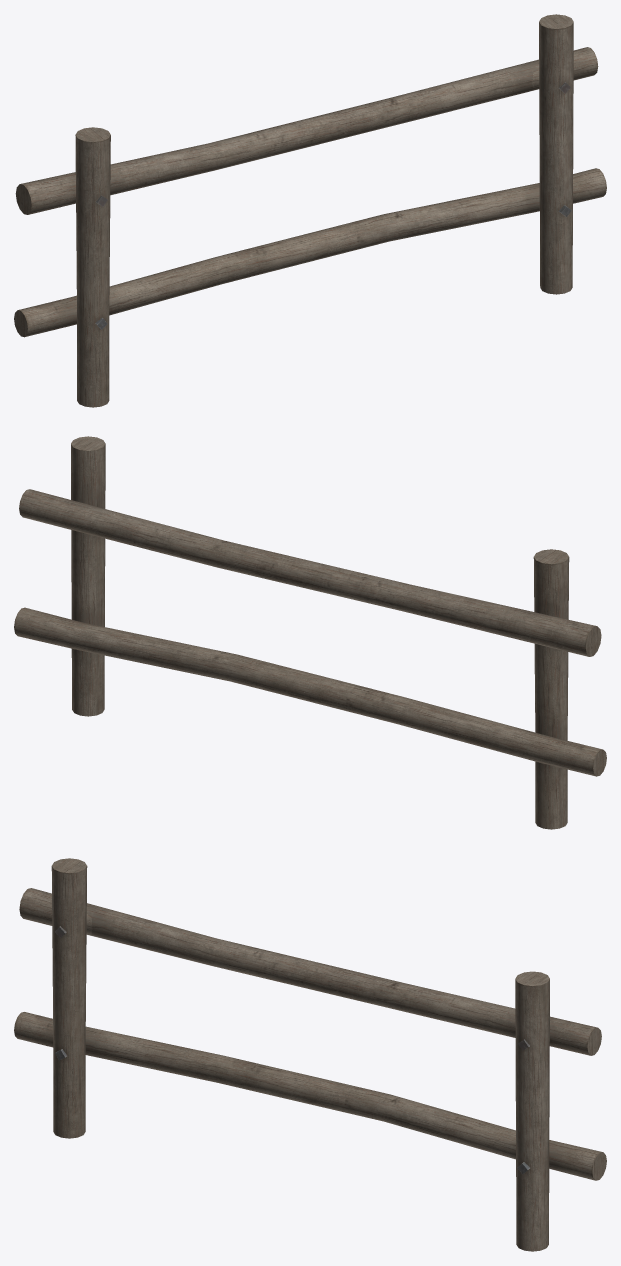
File: fence2.fbx
3 renders of one model, top to bottom at view 1: azimuth 30°, elevation 25°; view 2: azimuth 150°, elevation 25°; view 3: azimuth 330°, elevation 25°, orthographic.
Parts seen in each view (by area): view 1: fence2; view 2: fence2; view 3: fence2.
Boxes of the visible parts, <box> form: fence2: <box>14,14,606,407</box>; fence2: <box>14,436,606,829</box>; fence2: <box>14,858,606,1251</box>.
Size of the model in its own units: 375 by 165 by 35.83.
